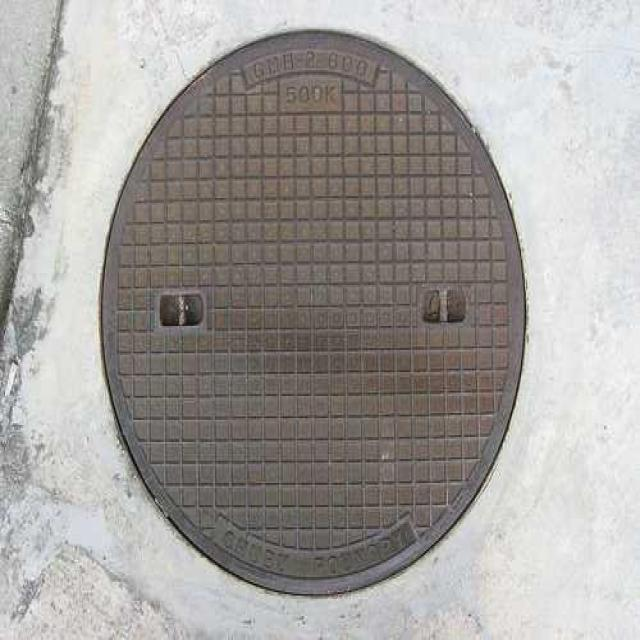manhole: (101, 32, 525, 594)
